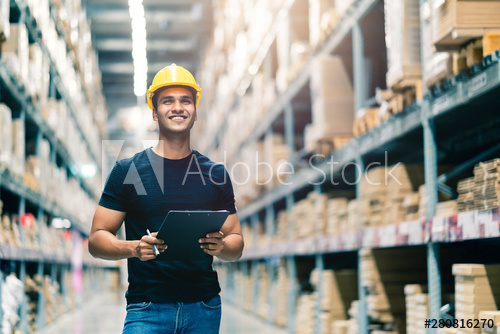Person_wearing_helmet: (140, 59, 204, 108)
